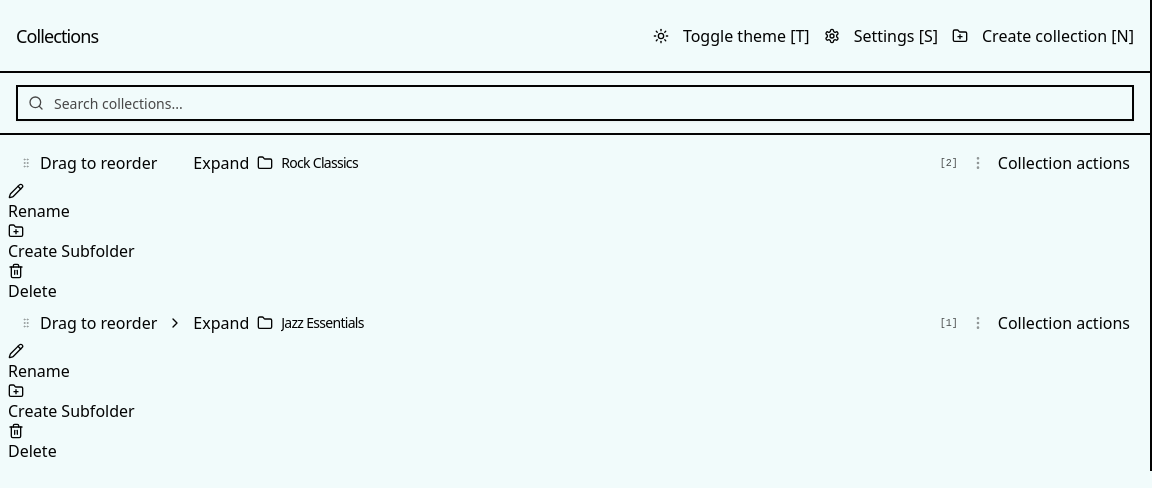
Scenario: FolderTree Search › shows clear button when searching and clears search when clicked
Type "Rock" into the field with placeholder "Search collections..." at (575, 103), box [16,85,1134,121]
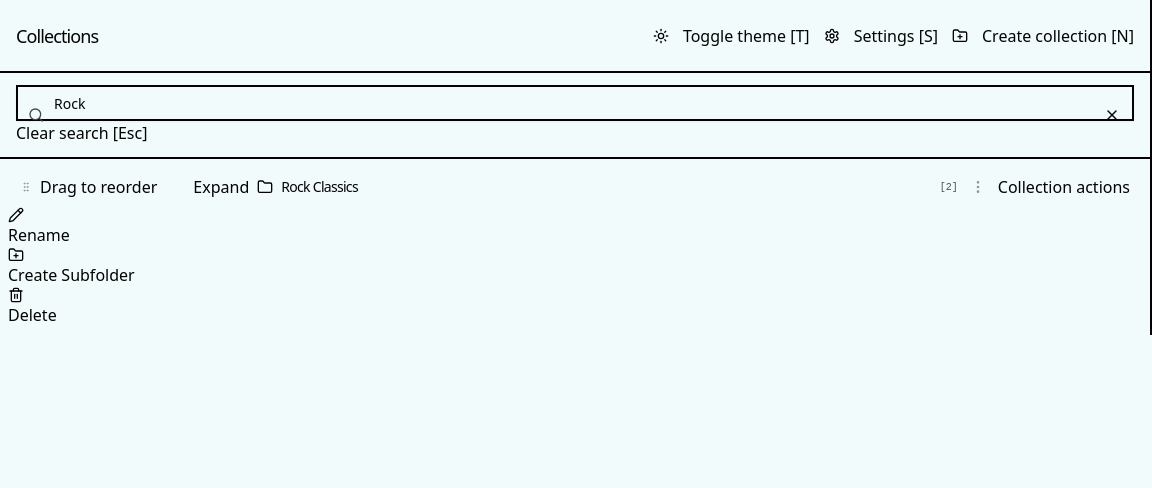
Click the button named "Clear search" at (1112, 115), box [1102,105,1122,125]
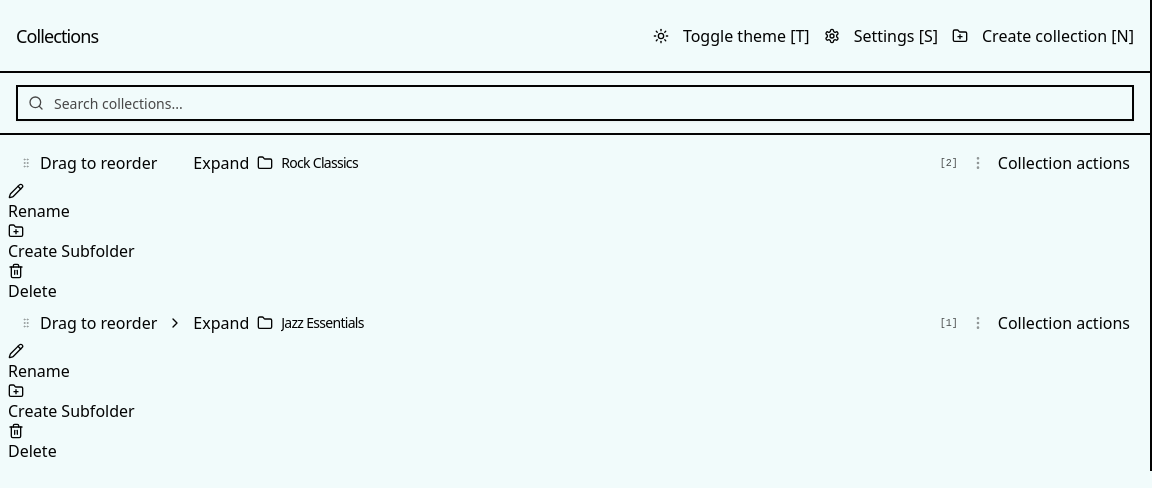
Expected: the text "Rock Classics" is shown, [281,153,358,172]
Expected: the field with placeholder "Search collections..." is empty, [16,85,1134,121]
Expected: the text "Jazz Essentials" is shown, [281,313,364,332]
